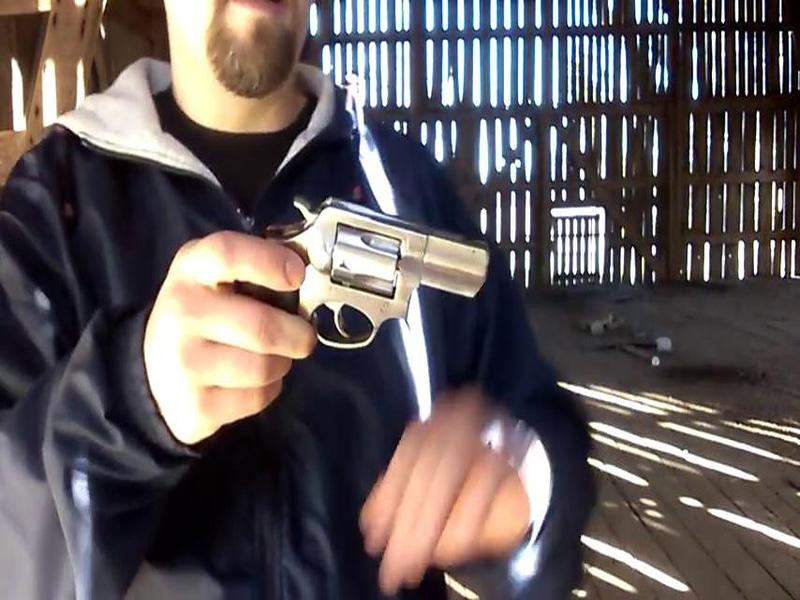Revolver: (223, 177, 527, 394)
